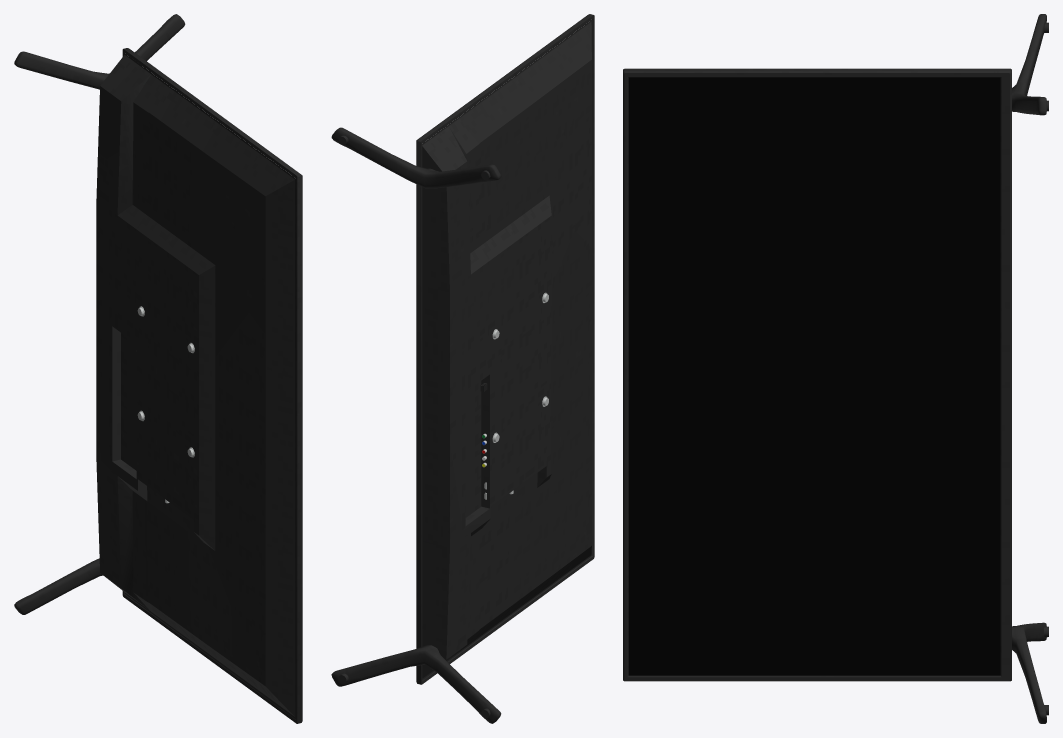
File: Màn hình TV.glb
3 renders of one model, left to right at view 1: azimuth 30°, elevation 25°; view 2: azimuth 150°, elevation 25°; view 3: azimuth 270°, elevation 25°, orthographic. The views are drawn at different scales.
Parts seen in each view (by area): view 1: TV; view 2: TV; view 3: TV.
Part boxes in pixels (x1=…): TV: x1=14, y1=14, x2=302, y2=723; TV: x1=331, y1=14, x2=594, y2=723; TV: x1=623, y1=14, x2=1048, y2=723.
Bounding box in the file's own units: 0.3658 × 1.16 × 0.7162.
1 material, 1 textured.
